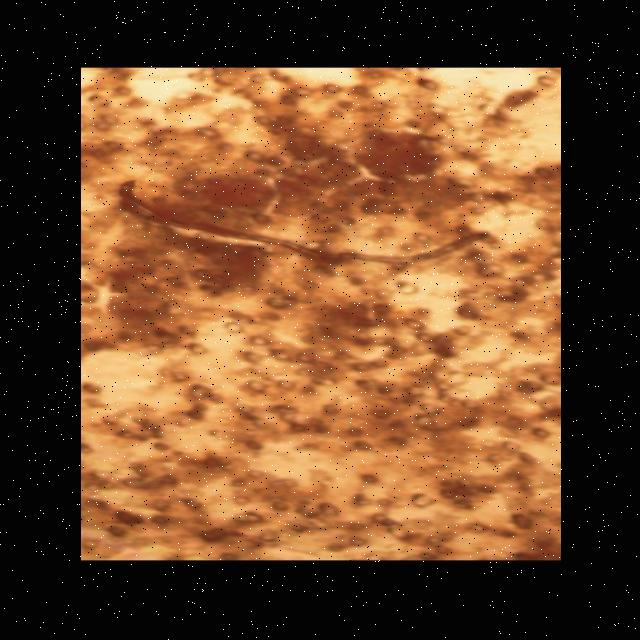Fibre: (106, 177, 496, 276)
